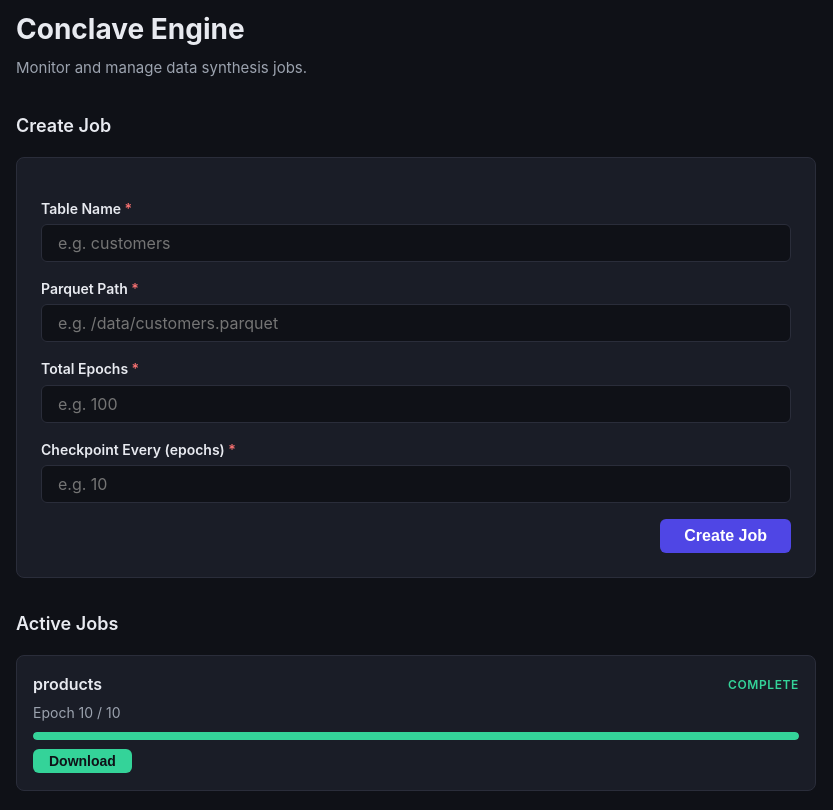
Scenario: Dashboard — download button wiring (P23-T23.3) › AC3: Download button is disabled and shows Downloading… while download is in progress
Click the button with aria-label "download synthetic data for products".
click(82, 761)  # box [33, 749, 132, 773]
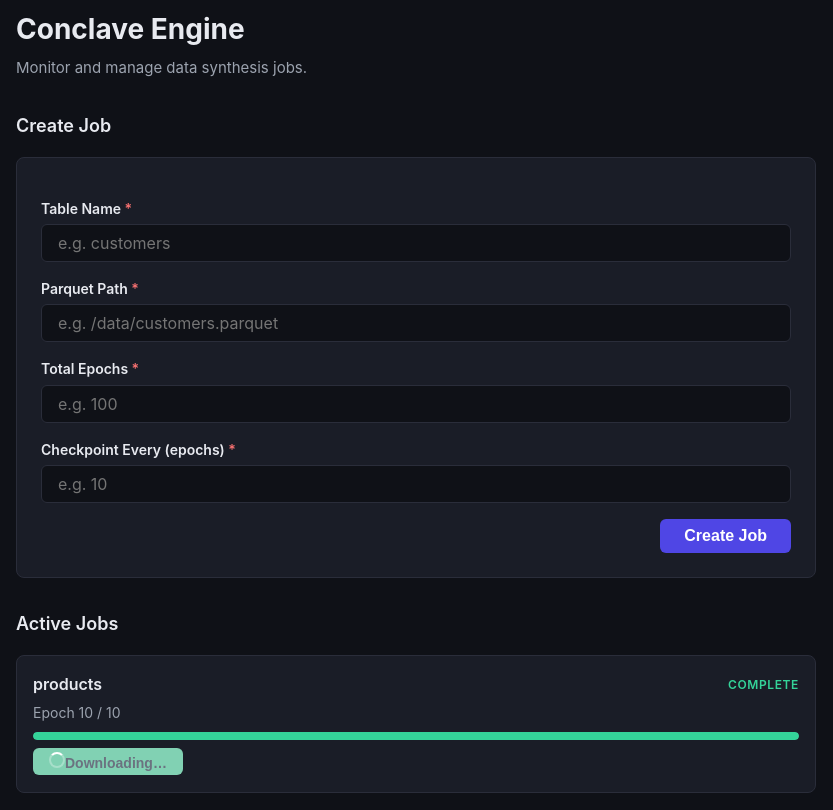
Result: the button with aria-label "download synthetic data for products" is disabled at [33, 748, 183, 775]
Result: the button with aria-label "download synthetic data for products" reads "Downloading…" at [33, 748, 183, 775]
